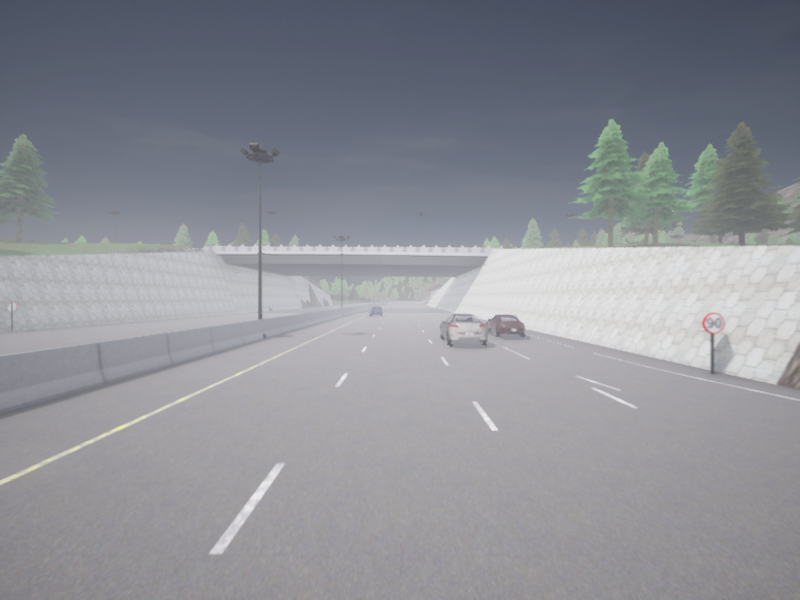vehicle: (440, 314, 487, 345), (485, 314, 525, 337), (370, 306, 382, 315)
